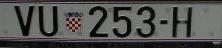-: (158, 19, 170, 26)
2: (87, 5, 109, 39)
3: (136, 4, 156, 38)
5: (111, 5, 134, 38)
H: (171, 5, 194, 40)
U: (38, 4, 60, 37)
V: (14, 4, 35, 38)
